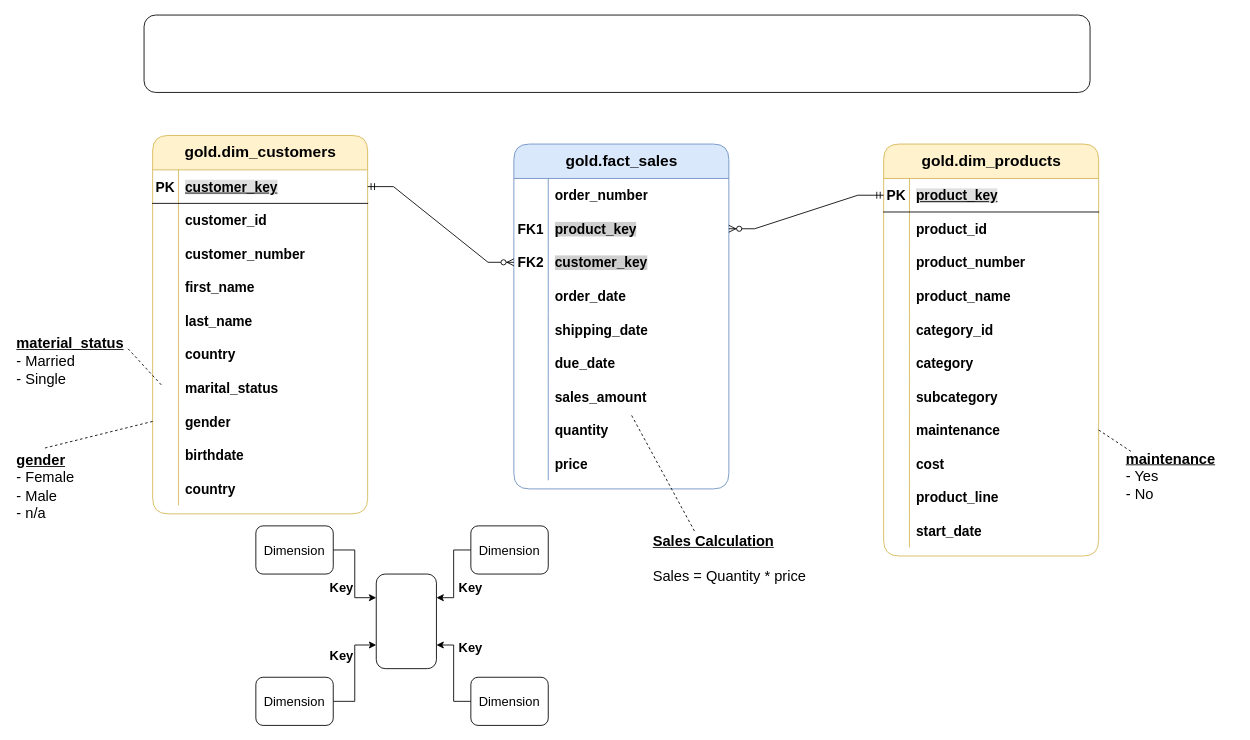
Image size: 1250x740. Some labels were removed from this diagram. The shapes that lost their labels are listed below. From the top down, each one's centre as x and y in pixels, then its label:
At point 616,53: "Sales Data (Star Schema)".
At point 405,621: "Facts".
